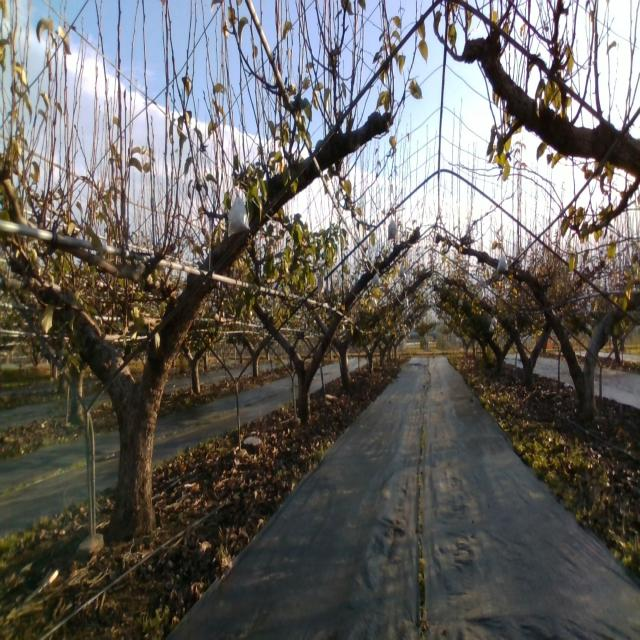pearbags: (226, 185, 250, 236), (387, 213, 399, 242), (496, 253, 509, 273)
